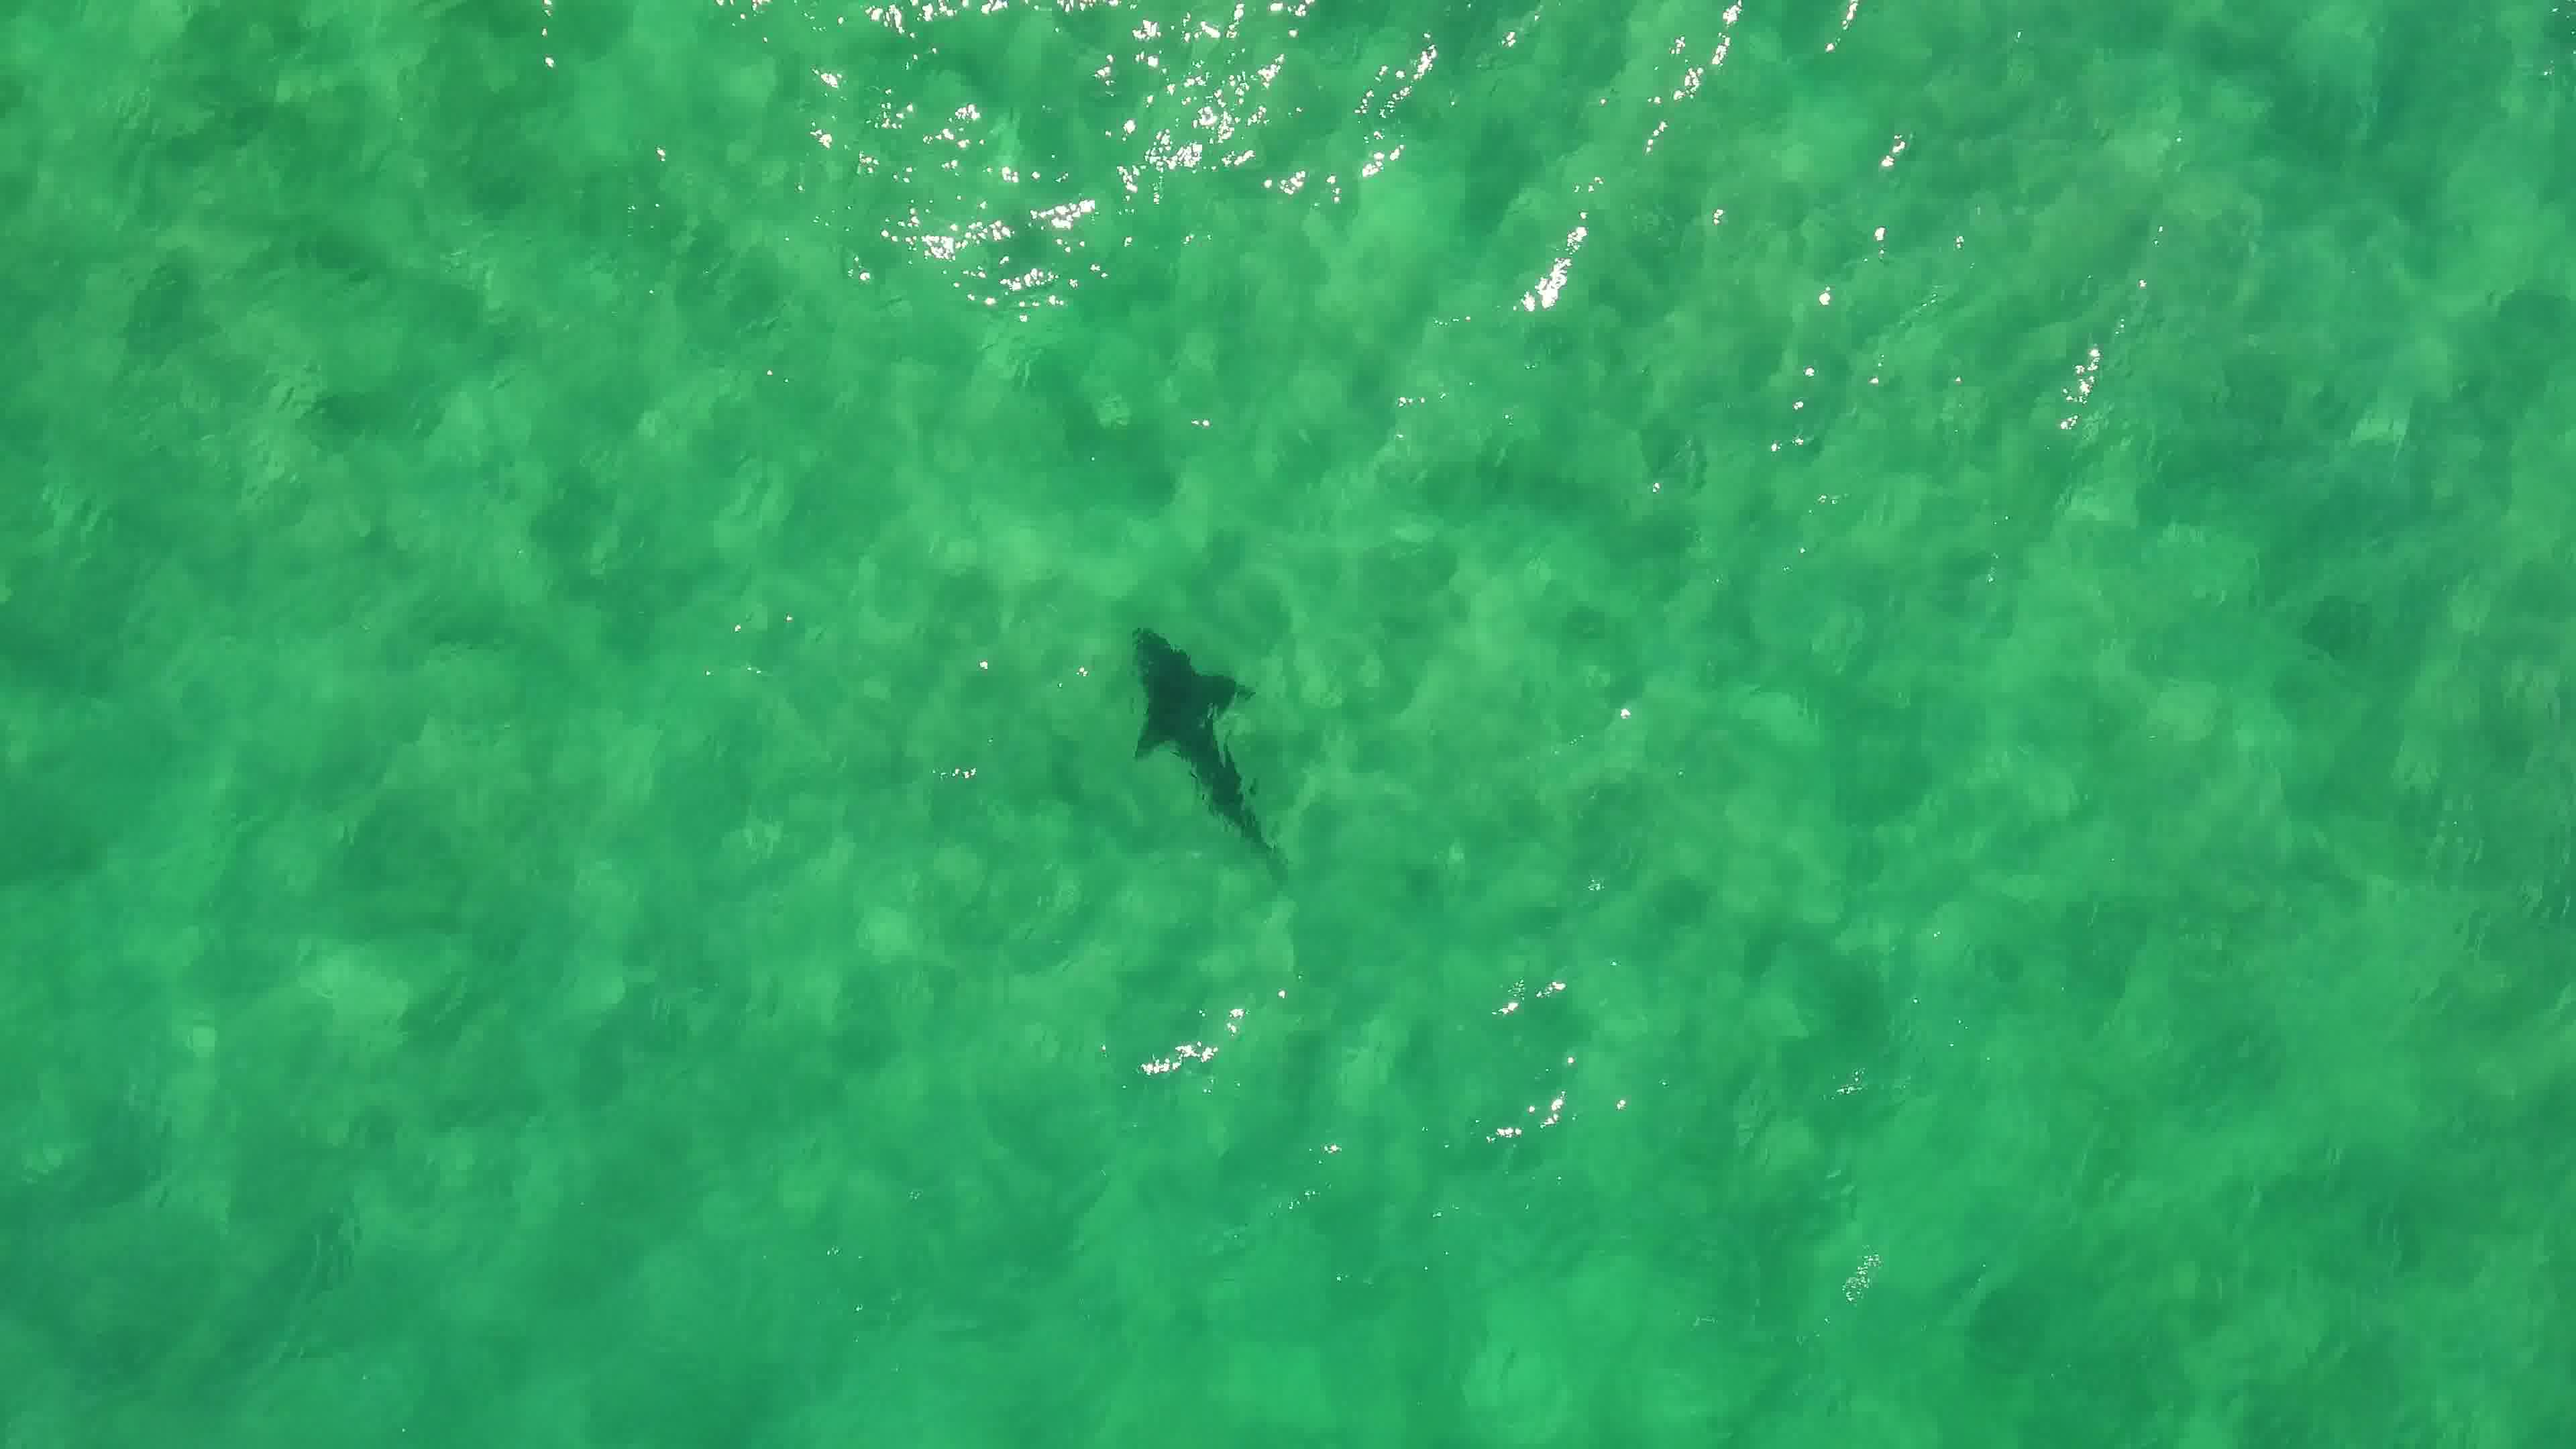shark: (1118, 623, 1277, 858)
